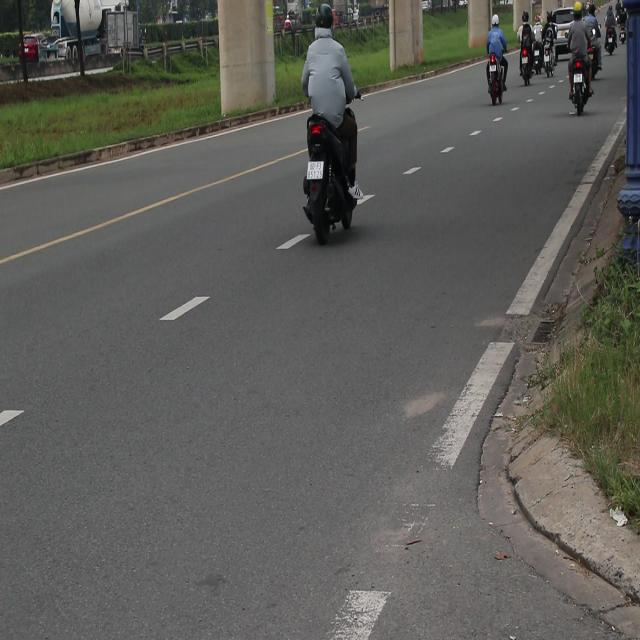car: (547, 6, 577, 50)
motorbike: (293, 110, 394, 238), (490, 43, 510, 117), (568, 62, 587, 138), (516, 44, 536, 94), (586, 39, 603, 82), (544, 44, 559, 88), (606, 20, 617, 64), (534, 38, 542, 76)
truck: (95, 0, 153, 63)
